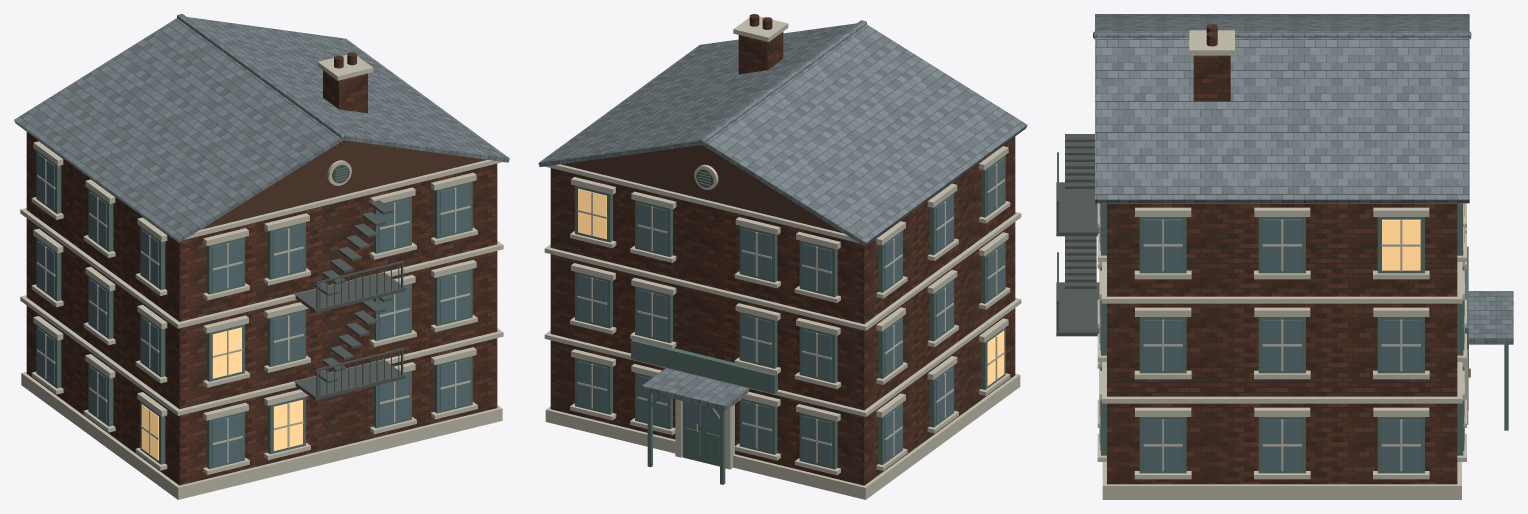
The model's file is mariner.glb.
3 renders of one model, left to right at view 1: azimuth 30°, elevation 25°; view 2: azimuth 150°, elevation 25°; view 3: azimuth 270°, elevation 25°, orthographic. The views are drawn at different scales.
Parts seen in each view (by area): view 1: lodging house brick, entry shelter, lodging house foundation, sash pane, sash painted frame, gable vent dark, sash pane.001; view 2: lodging house brick, entry shelter, lodging house foundation, sash pane, sash painted frame, sash pane.001; view 3: entry shelter, lodging house brick, lodging house foundation, sash pane, sash painted frame, gable vent dark, sash pane.001.
Boxes of the visible parts, x1=… form: lodging house brick: x1=26, y1=52, x2=497, y2=485; entry shelter: x1=14, y1=14, x2=509, y2=242; lodging house foundation: x1=20, y1=55, x2=503, y2=499; sash pane: x1=37, y1=154, x2=469, y2=465; sash painted frame: x1=36, y1=150, x2=472, y2=468; gable vent dark: x1=294, y1=164, x2=405, y2=400; sash pane.001: x1=141, y1=327, x2=302, y2=460; lodging house brick: x1=550, y1=14, x2=1015, y2=485; entry shelter: x1=538, y1=20, x2=1027, y2=411; lodging house foundation: x1=544, y1=16, x2=1021, y2=499; sash pane: x1=578, y1=158, x2=1004, y2=466; sash painted frame: x1=575, y1=155, x2=1005, y2=484; sash pane.001: x1=578, y1=188, x2=1004, y2=386; entry shelter: x1=1093, y1=14, x2=1513, y2=344; lodging house brick: x1=1107, y1=24, x2=1457, y2=484; lodging house foundation: x1=1097, y1=30, x2=1468, y2=499; sash pane: x1=1100, y1=203, x2=1468, y2=470; sash painted frame: x1=1101, y1=203, x2=1508, y2=473; gable vent dark: x1=1056, y1=134, x2=1099, y2=336; sash pane.001: x1=1382, y1=203, x2=1464, y2=270.
Size of the model in its own units: 12.55 by 12.87 by 13.06.
8 materials, 2 textured.
